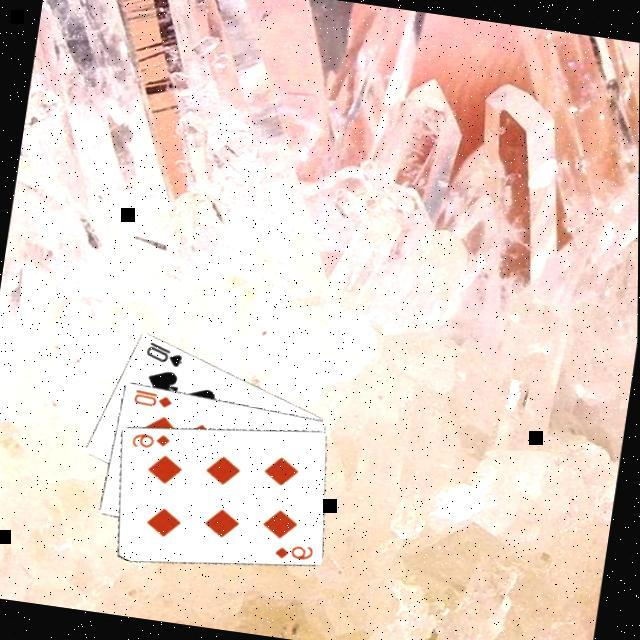10D: (131, 384, 177, 409)
10S: (144, 336, 188, 369)
6D: (128, 425, 176, 453), (272, 536, 320, 564)
